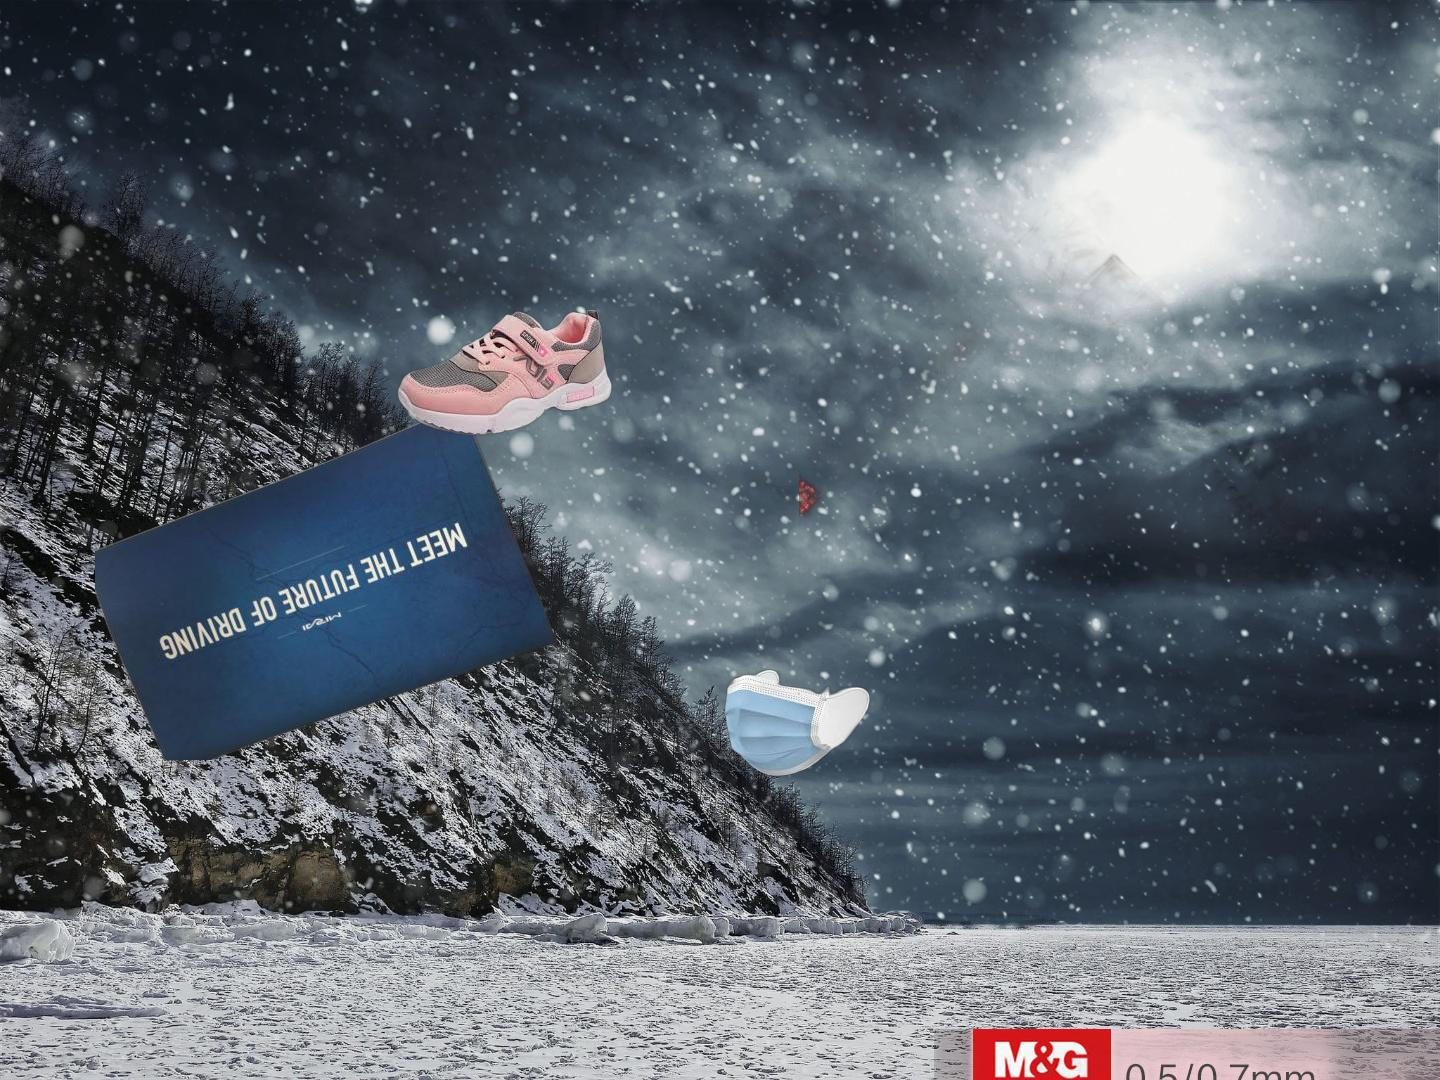biological: (1382, 558, 1440, 1080)
metal-cans: (1049, 938, 1440, 1080)
paper: (799, 189, 1311, 574), (95, 402, 561, 760)
penholder: (934, 1029, 1440, 1080)
shoes: (395, 307, 615, 438), (1340, 948, 1440, 1080)
trash: (721, 667, 873, 779)
